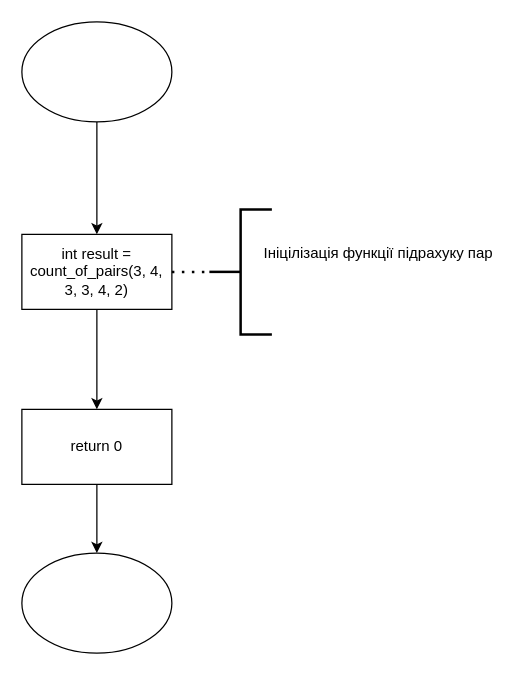
This 531x675 diagram has some shape labels left out. Each missing label, with the box of its shape:
Кінець: (21, 552, 172, 653)
Початок: (21, 21, 172, 122)
